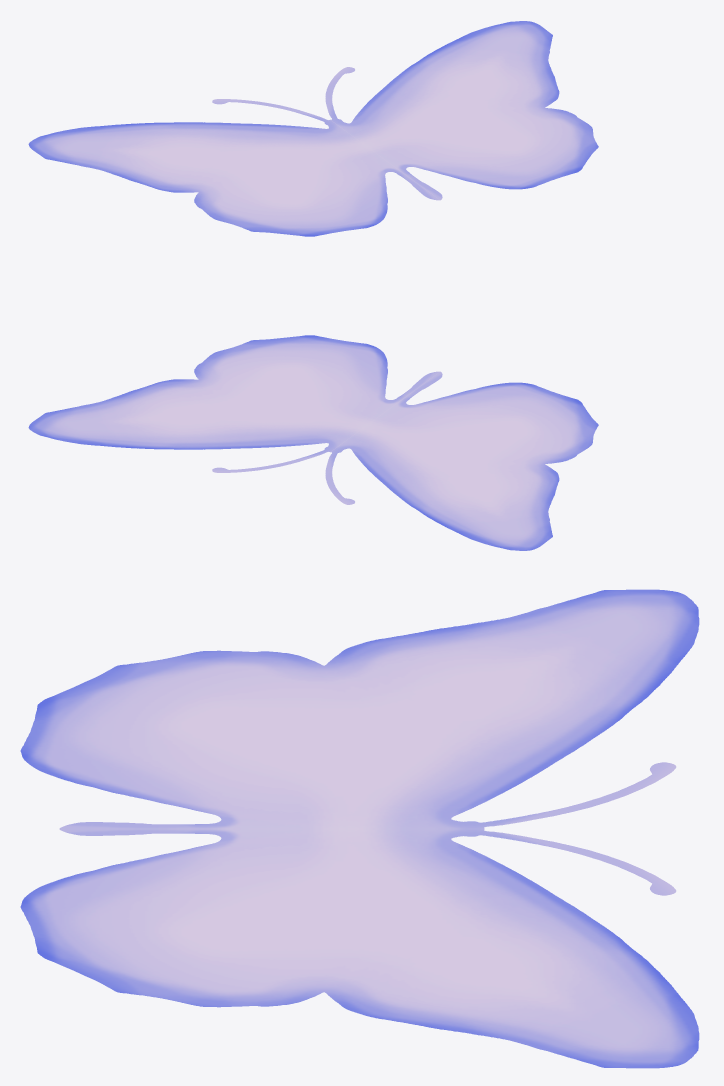
File: HawkmothAkuma_Light.fbx
3 views of the same model, one above another, from view 1: azimuth 30°, elevation 25°; view 2: azimuth 150°, elevation 25°; view 3: azimuth 270°, elevation 25° (orthographic). The views are drawn at different scales.
Visible parts, largest first — view 1: geo_HawkmothAkumaLight_Wing_L, geo_HawkmothAkumaLight_Wing_R; view 2: geo_HawkmothAkumaLight_Wing_R, geo_HawkmothAkumaLight_Wing_L; view 3: geo_HawkmothAkumaLight_Wing_R, geo_HawkmothAkumaLight_Wing_L.
Part boxes in pixels (bbox=[...]): geo_HawkmothAkumaLight_Wing_L: bbox=[28, 99, 439, 236]; geo_HawkmothAkumaLight_Wing_R: bbox=[325, 21, 598, 200]; geo_HawkmothAkumaLight_Wing_R: bbox=[28, 335, 439, 472]; geo_HawkmothAkumaLight_Wing_L: bbox=[325, 371, 598, 550]; geo_HawkmothAkumaLight_Wing_R: bbox=[20, 829, 699, 1068]; geo_HawkmothAkumaLight_Wing_L: bbox=[20, 589, 699, 828].
Size of the model in its own units: 105 by 0 by 63.62.
